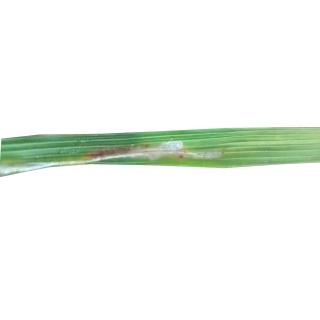Hawar-Daun: (86, 148, 226, 163), (158, 139, 184, 162)
